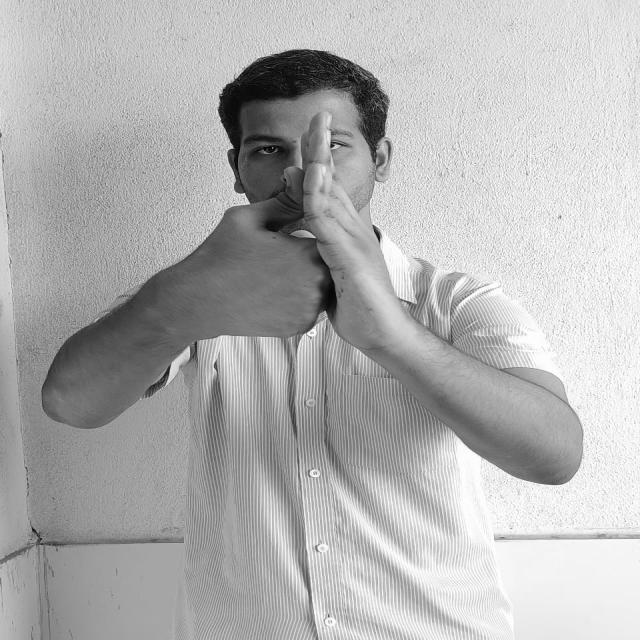Well Done: (205, 110, 397, 364)
